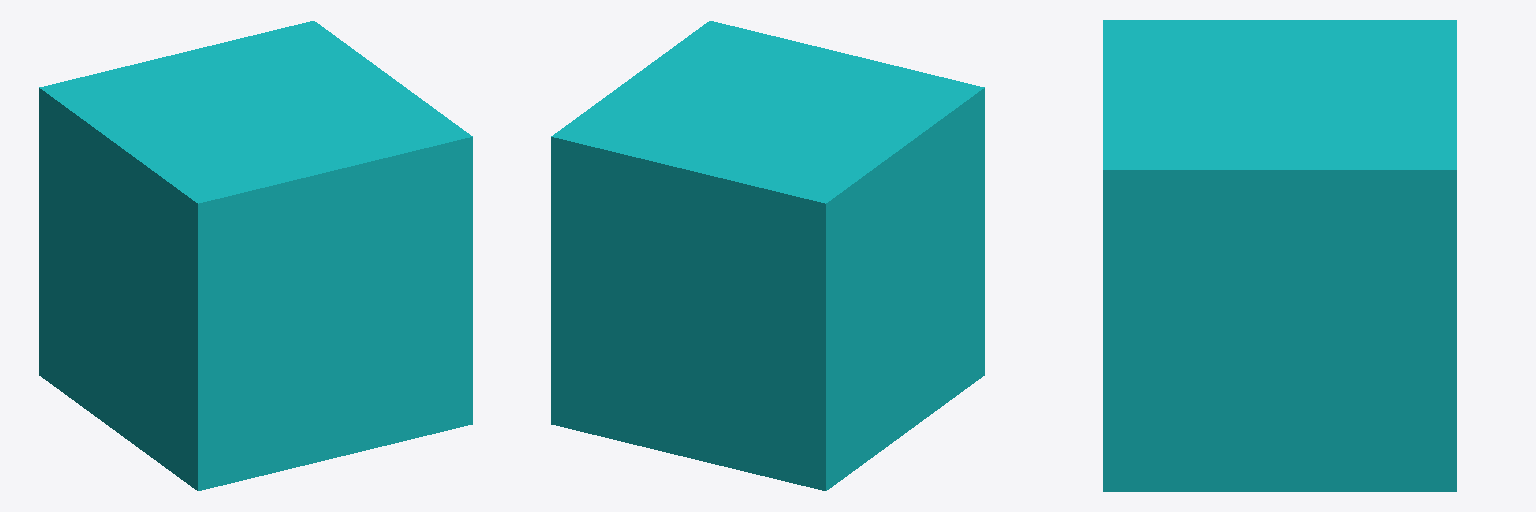
URDF robot description (table):
<?xml version="1.0" ?>
<robot name="table">
  <link name="table_link">
    <contact>
        <restitution value="0.5" />
      <rolling_friction value="0.001"/>
      <spinning_friction value="0.001"/>
      <stiffness value="3.0" />
    </contact>
    <inertial>
      <origin rpy="0 0 0" xyz="0 0 0"/>
       <mass value="100.0"/>
       <inertia ixx="1" ixy="0" ixz="0" iyy="1" iyz="0" izz="1"/>
    </inertial>
    <visual>
      <origin rpy="0 0 0" xyz="0 0 0"/>
      <geometry>
        <box size="0.55 0.55 0.55"/>
      </geometry>
       <material name="white">
        <color rgba="0.145 0.803 0.815 1"/>
      </material>
    </visual>
    <collision>
      <origin rpy="0 0 0" xyz="0 0 0"/>
      <geometry>
	 	<box size="0.55 0.55 0.55"/>
      </geometry>
    </collision>
  </link>
</robot>

--- Facts derived from the render (not from the file) ---
3 views of the same robot in one strip: view 1: azimuth 30°, elevation 25°; view 2: azimuth 150°, elevation 25°; view 3: azimuth 270°, elevation 25° (orthographic).
Robot: table — 1 links, 0 joints (none); root link table_link; default pose: every joint at zero.
Visible links, largest first — view 1: table_link; view 2: table_link; view 3: table_link.
Boxes of the visible links, box(x1,y1,x2,y2) form: table_link: box(39, 21, 472, 490); table_link: box(551, 21, 984, 490); table_link: box(1103, 20, 1456, 491).
Size in the robot's own frame: 0.55 by 0.55 by 0.55 metres.
Geometry: primitives only (box / cylinder / sphere), no mesh files.
